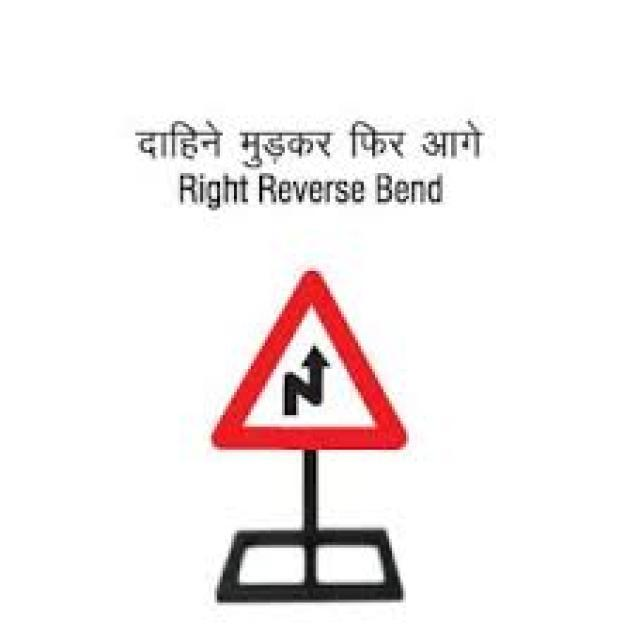right reverse bend: (202, 262, 412, 451)
